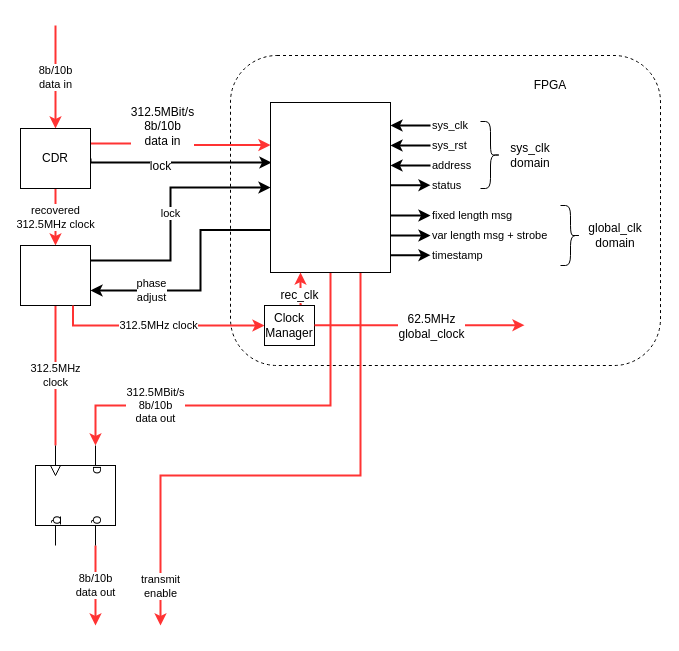
This 679x651 diagram has some shape labels left out. Here are the shapes that lost their labels. From the top down, the centre of each, then its label:
At point (330, 187): "Endpoint Logic".
At point (55, 275): "PLL".
